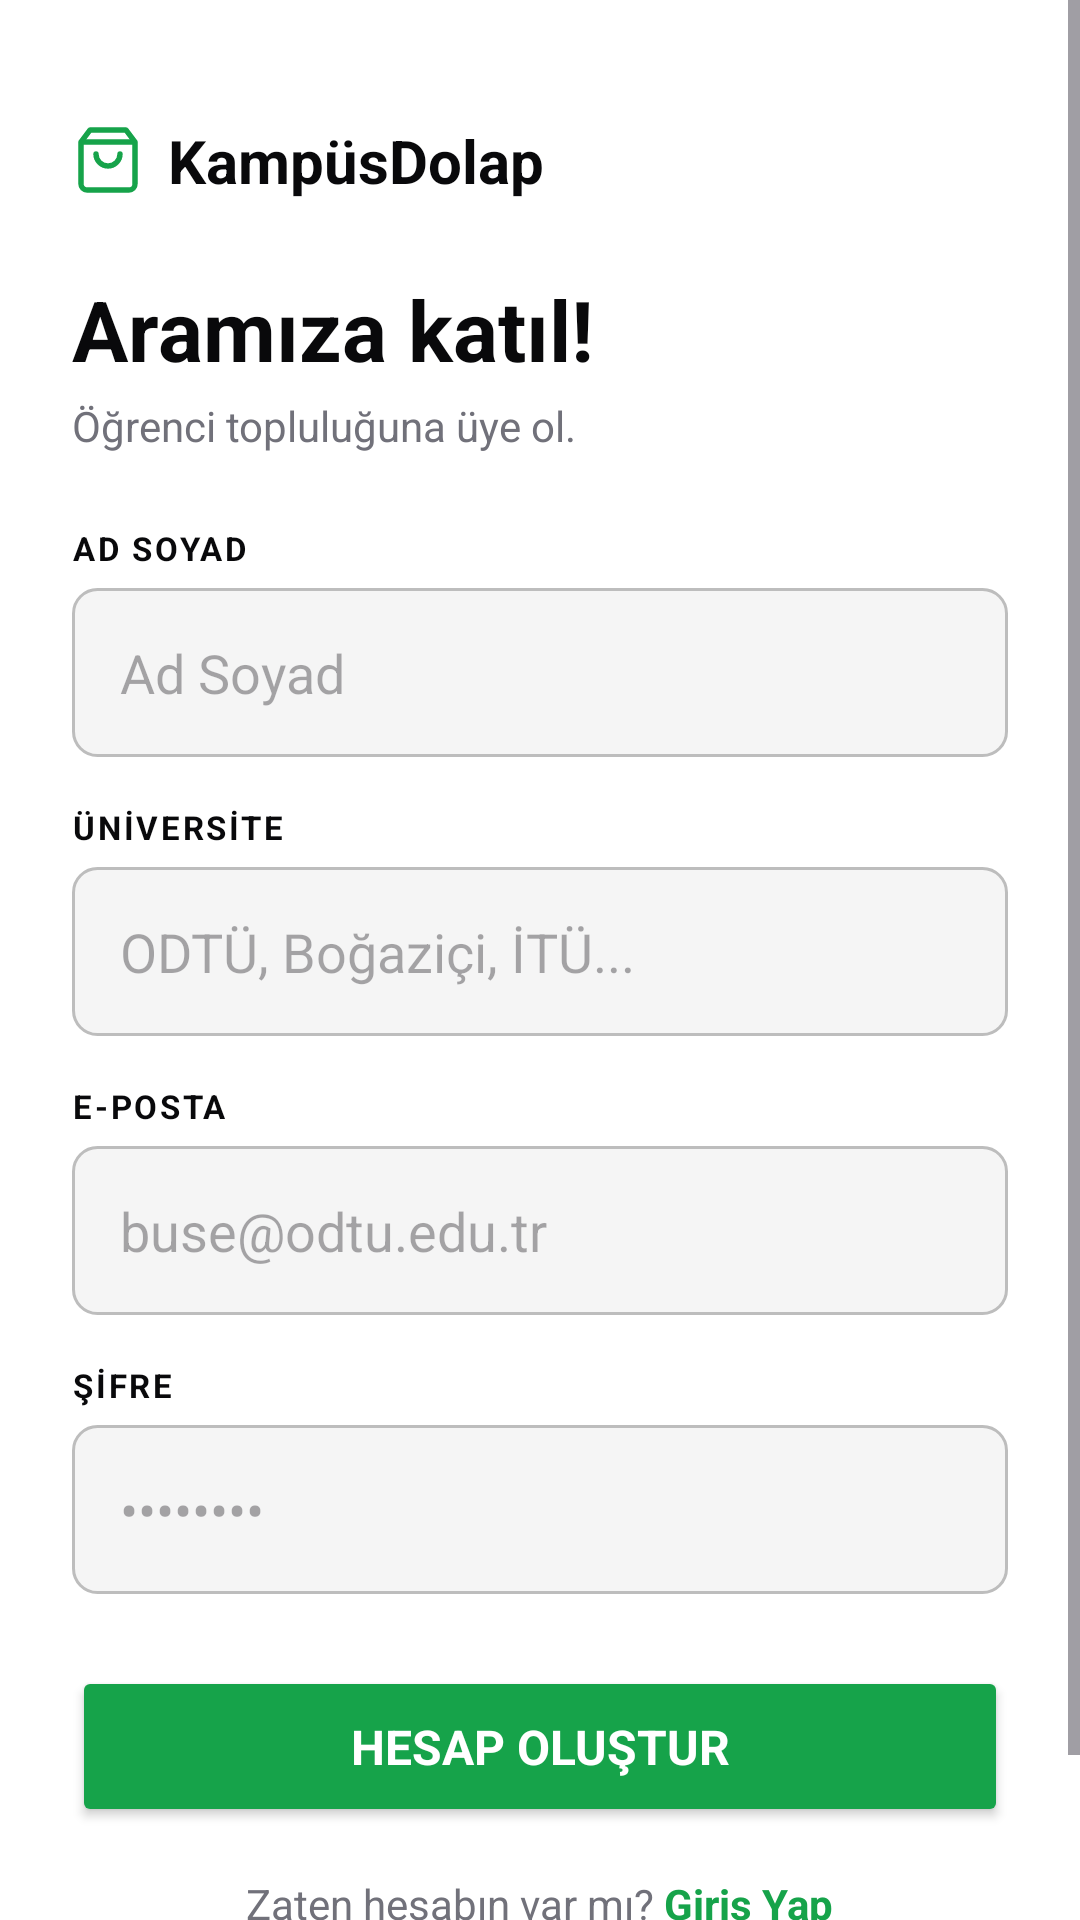

Where to tap for icons on this 1080 × 1920 app screen, as (x=x, y=y):
shopping bag: (x=108, y=160)
